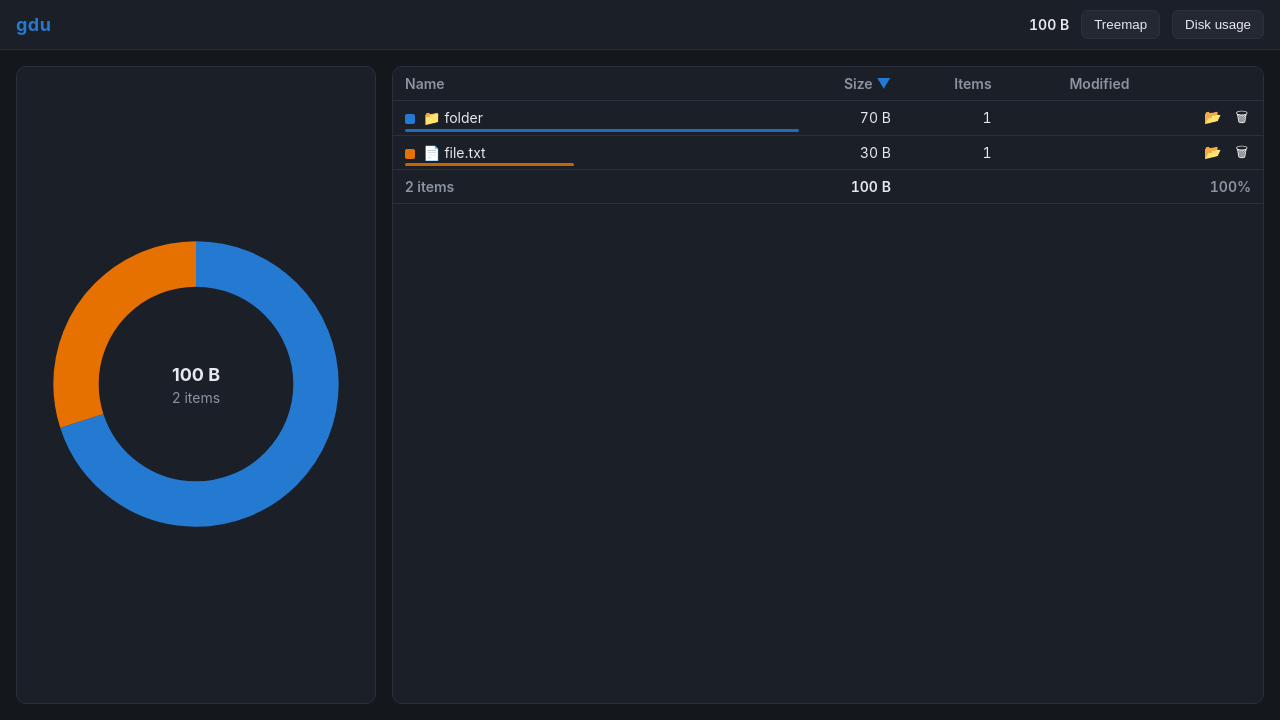
table actions › does not delete when the dialog is cancelled
Click the button named "Delete file.txt". click: (1242, 152)
box: [1228,140,1255,165]
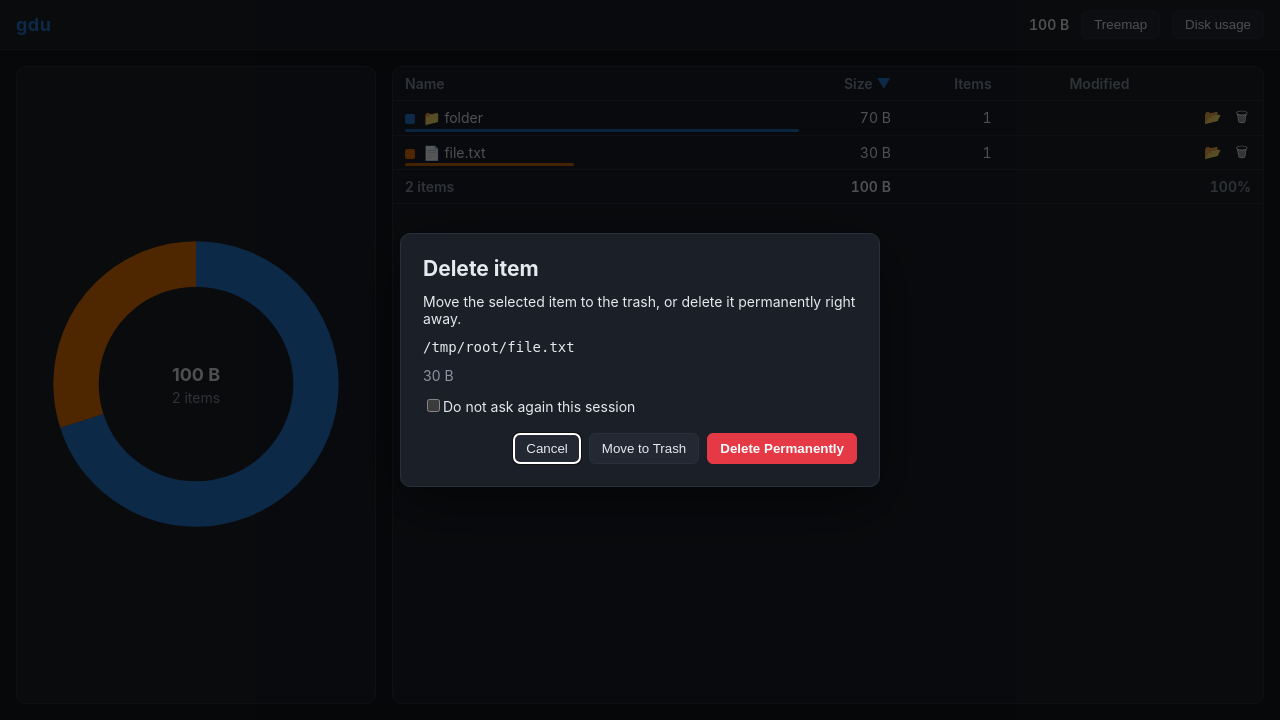
Click the button "Cancel". click: (547, 448)
box: [513,433,581,464]
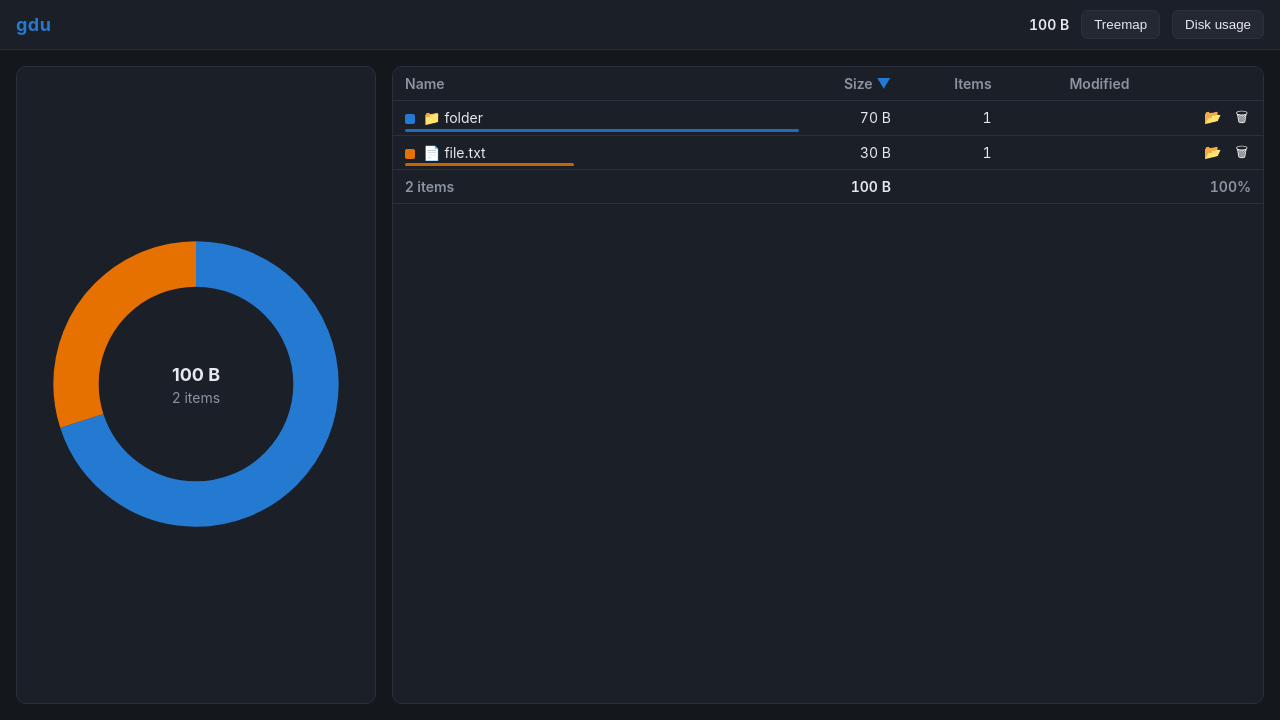
Result: the heading "Delete item" is gone
